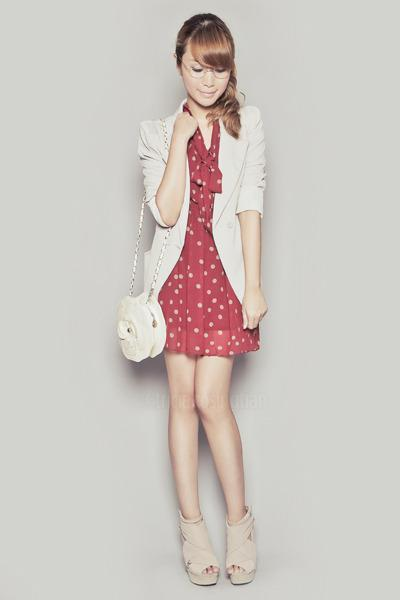bag: (108, 287, 166, 361)
dress: (158, 132, 259, 363)
jacket: (140, 108, 265, 293)
shoe: (168, 507, 265, 581)
